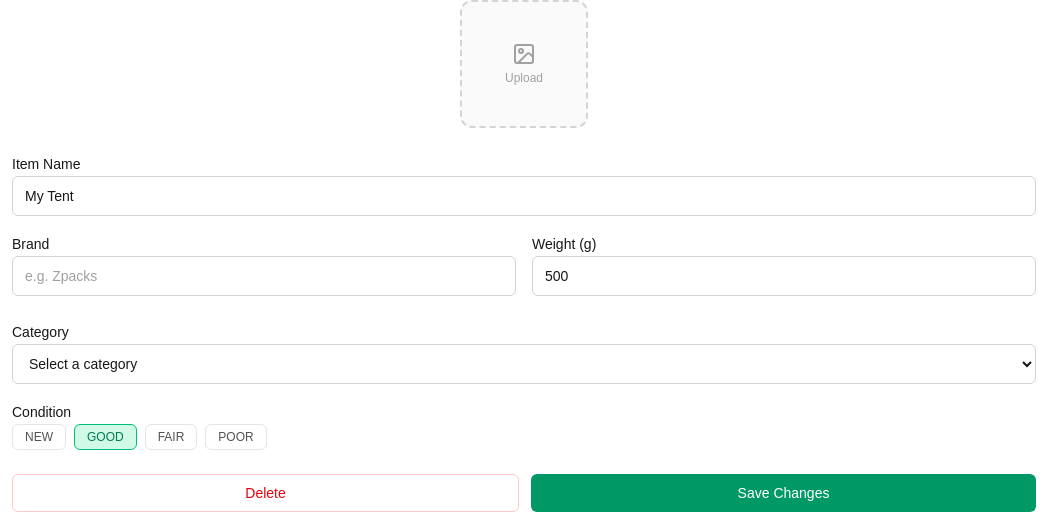
Test: GearForm › shows delete confirmation screen when Delete is clicked
Click the button "Delete": (266, 493) [12,474,519,512]
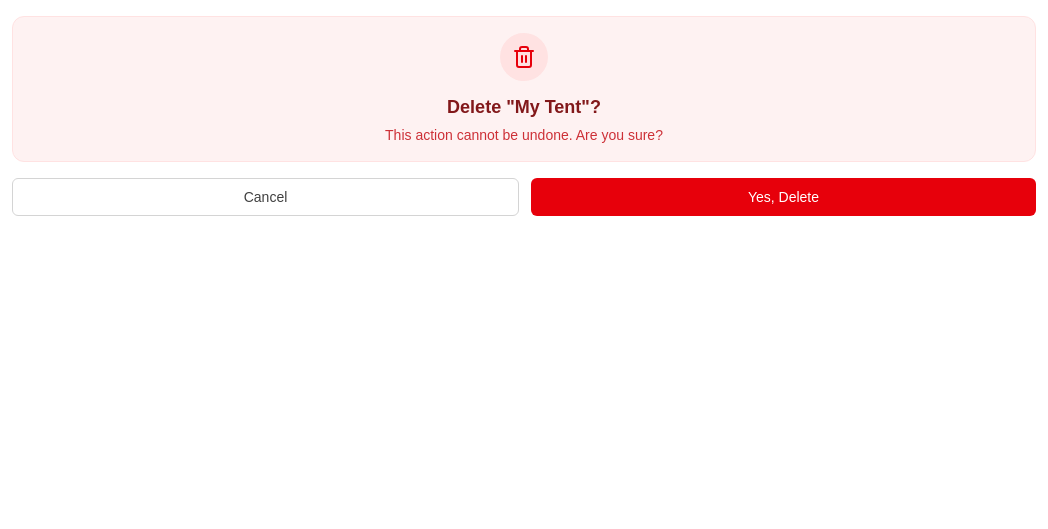
Expected: the heading "Delete \"My Tent\"?" is shown, [447,97,601,117]
Expected: the button "Yes, Delete" is shown, [531,178,1036,216]
